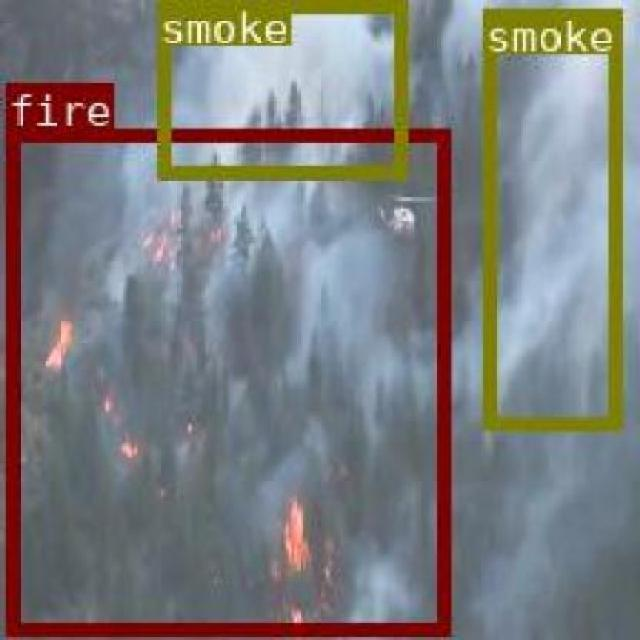fire: (4, 127, 447, 633)
smoke: (482, 6, 618, 426), (154, 0, 406, 177)
